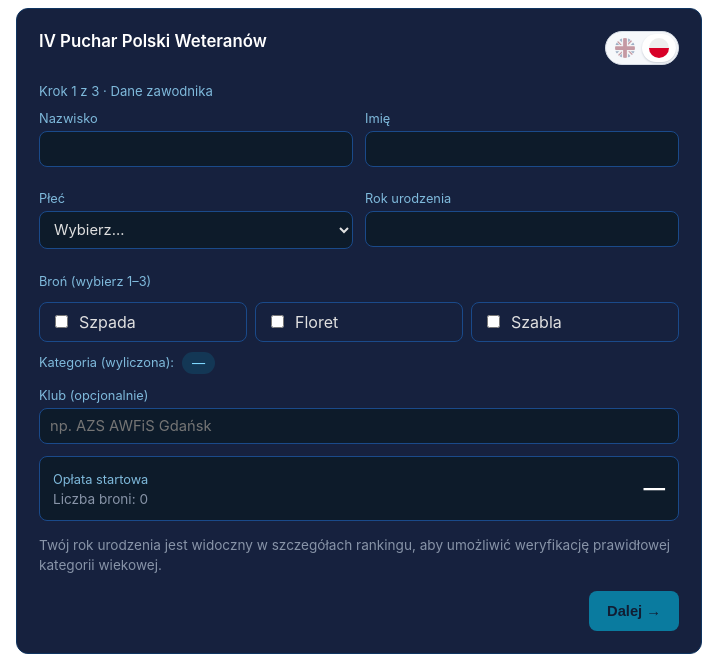
Test: RegistrationForm — identity step (P2.3) › computes the fee from the number of selected weapons using the event tiers
expect the text "IV Puchar Polski Weteranów" is shown: met, box left=39, top=31, right=267, bottom=51
Click the checkbox labelled "Szpada".
click(62, 322)  # box left=55, top=315, right=68, bottom=328
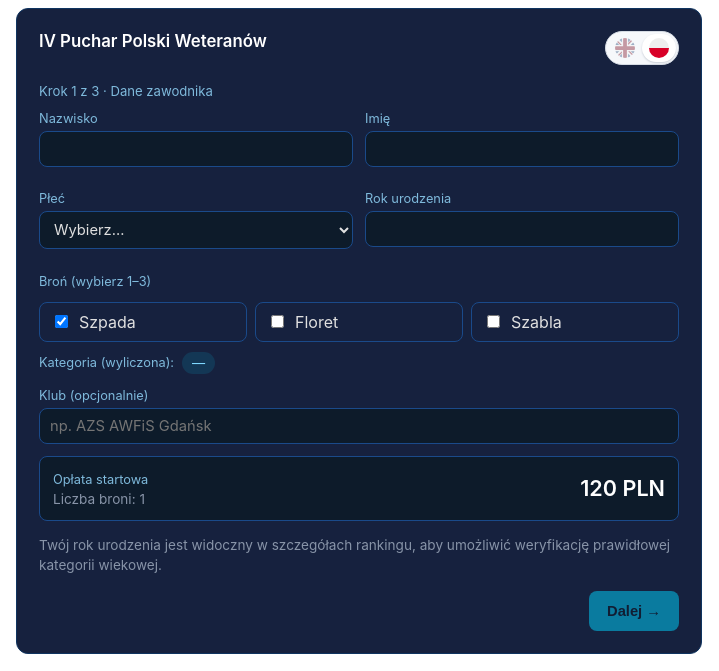
expect the text "120 PLN" is shown: met, box left=580, top=475, right=665, bottom=501
Click the checkbox labelled "Floret".
click(278, 322)  # box left=271, top=315, right=284, bottom=328
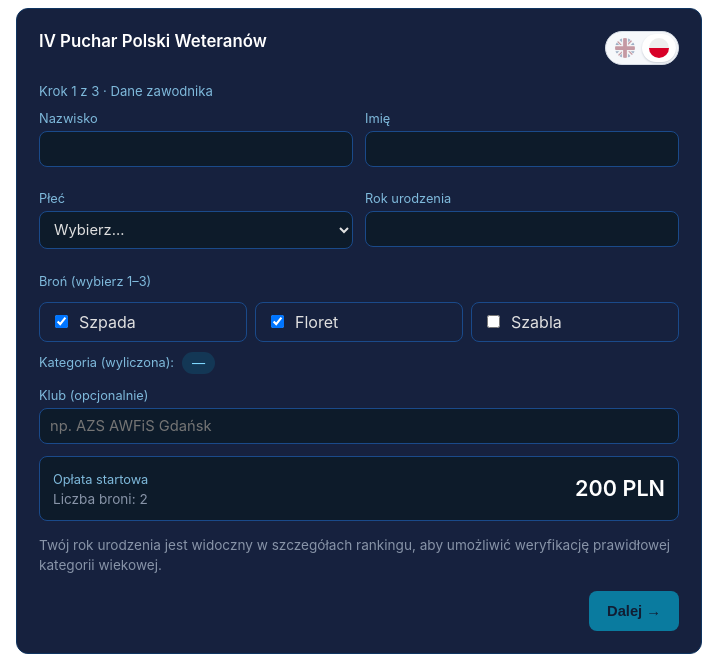
expect the text "200 PLN" is shown: met, box left=575, top=475, right=665, bottom=501
